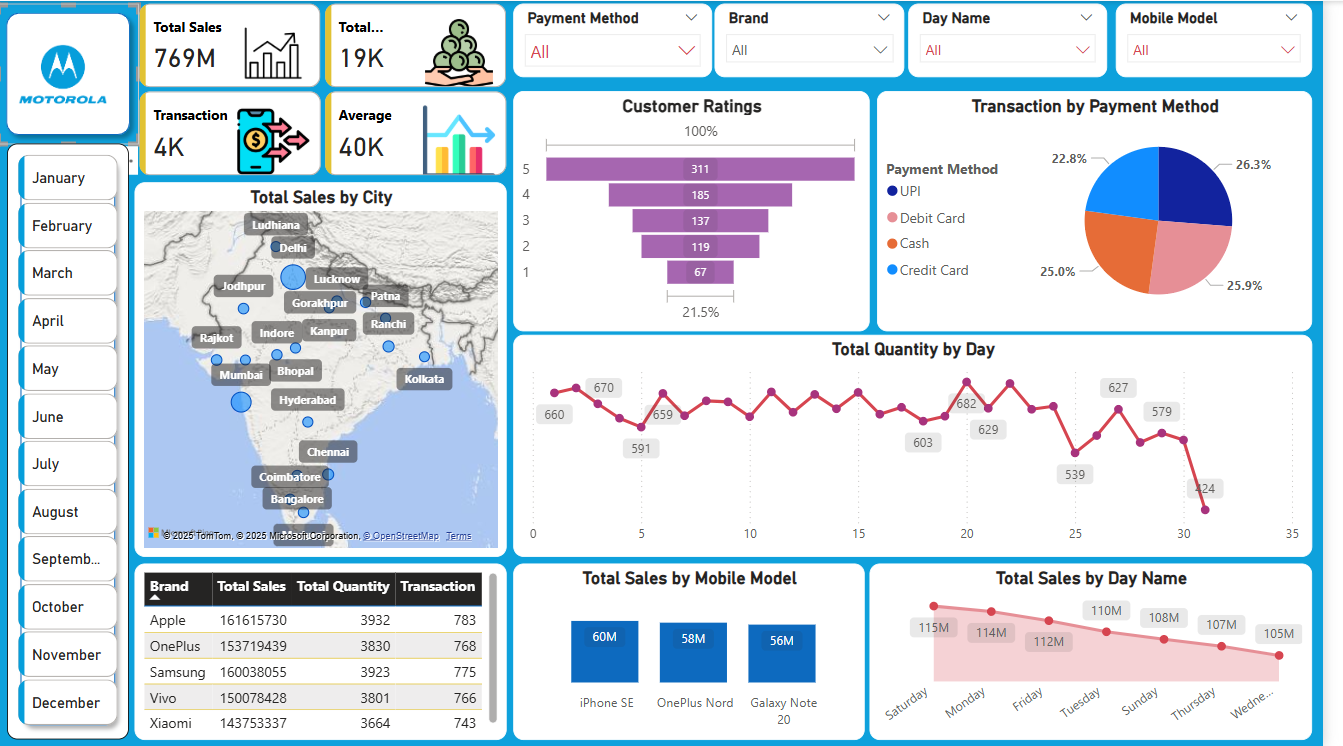

What the dashboard file says about the page in this screenshot:
{"tool":"powerbi","page":{"name":"Page 1","canvas":[1280,720],"ordinal":0},"visuals":[{"type":"shape","box":[0,2.7,137.3,136],"z":0},{"type":"image","box":[0,18.8,126.5,103.7],"z":1000},{"type":"shape","box":[9.5,138,117.7,575.2],"z":2000},{"type":"advancedSlicerVisual","fields":{"Values":["Sheet1.Date.Variation.Date Hierarchy.Month"]},"box":[15.7,143.6,106.2,564.6],"z":3000},{"type":"cardVisual","fields":{"Data":["Sales_Data.Total Sales","Sales_Data.Total Quantity","Sales_Data.Transaction","Sales_Data.Average"]},"box":[132.7,2.4,365.6,168.9],"z":4000},{"type":"map","fields":{"Size":["Sales_Data.Total Sales"],"Category":["Sales_Data.City"]},"box":[132.7,174.9,359.5,361.9],"z":5000},{"type":"lineChart","fields":{"Category":["Sales_Data.Date.Variation.Date Hierarchy.Month","Sales_Data.Date.Variation.Date Hierarchy.Day"],"Y":["Sales_Data.Total Quantity"]},"box":[498.3,322.1,770.9,214.7],"z":6000},{"type":"columnChart","fields":{"Category":["Sales_Data.Mobile Model"],"Y":["Sales_Data.Total Sales"]},"box":[498.3,542.9,339,170.1],"z":7000},{"type":"pieChart","fields":{"Category":["Sales_Data.Payment Method"],"Y":["Sales_Data.Transaction"]},"box":[849.3,86.9,419.8,231.6],"z":8000},{"type":"funnel","title":"Customer Ratings","fields":{"Category":["Sales_Data.Customer Ratings"],"Y":["CountNonNull(Sales_Data.Customer Ratings)"]},"box":[498.3,86.9,343.8,231.6],"z":9000},{"type":"areaChart","fields":{"Category":["Sales_Data.Day Name"],"Y":["Sales_Data.Total Sales"]},"box":[842.1,542.9,427.1,170.1],"z":10000},{"type":"tableEx","fields":{"Values":["Sales_Data.Brand","Sales_Data.Total Sales","Sales_Data.Total Quantity","Sales_Data.Transaction"]},"box":[132.7,542.9,359.5,170.1],"z":11000},{"type":"slicer","fields":{"Values":["Sales_Data.Payment Method"]},"box":[498.3,2.4,191.8,71.2],"z":12000},{"type":"slicer","fields":{"Values":["Sales_Data.Brand"]},"box":[692.5,2.4,183.4,71.2],"z":13000},{"type":"slicer","fields":{"Values":["Sales_Data.Day Name"]},"box":[879.5,2.4,191.8,71.2],"z":14000},{"type":"slicer","fields":{"Values":["Sales_Data.Mobile Model"]},"box":[1079.8,2.4,189.4,71.2],"z":15000}]}

Visuals, with their boxes in screenshot pixels (x1, y1, x2, y2), scaled from the page's 1280x720 canvas onto the 1343x746 screenshot:
shape: [x1=0, y1=3, x2=144, y2=144]
image: [x1=0, y1=19, x2=133, y2=127]
shape: [x1=10, y1=143, x2=133, y2=739]
advancedSlicerVisual - Sheet1.Date.Variation.Date Hierarchy.Month: [x1=16, y1=149, x2=128, y2=734]
cardVisual - Sales_Data.Total Sales x Sales_Data.Total Quantity: [x1=139, y1=2, x2=523, y2=177]
map - Sales_Data.Total Sales x Sales_Data.City: [x1=139, y1=181, x2=516, y2=556]
lineChart - Sales_Data.Date.Variation.Date Hierarchy.Month x Sales_Data.Date.Variation.Date Hierarchy.Day: [x1=523, y1=334, x2=1332, y2=556]
columnChart - Sales_Data.Mobile Model x Sales_Data.Total Sales: [x1=523, y1=563, x2=879, y2=739]
pieChart - Sales_Data.Payment Method x Sales_Data.Transaction: [x1=891, y1=90, x2=1332, y2=330]
"Customer Ratings" funnel: [x1=523, y1=90, x2=884, y2=330]
areaChart - Sales_Data.Day Name x Sales_Data.Total Sales: [x1=884, y1=563, x2=1332, y2=739]
tableEx - Sales_Data.Brand x Sales_Data.Total Sales: [x1=139, y1=563, x2=516, y2=739]
slicer - Sales_Data.Payment Method: [x1=523, y1=2, x2=724, y2=76]
slicer - Sales_Data.Brand: [x1=727, y1=2, x2=919, y2=76]
slicer - Sales_Data.Day Name: [x1=923, y1=2, x2=1124, y2=76]
slicer - Sales_Data.Mobile Model: [x1=1133, y1=2, x2=1332, y2=76]
